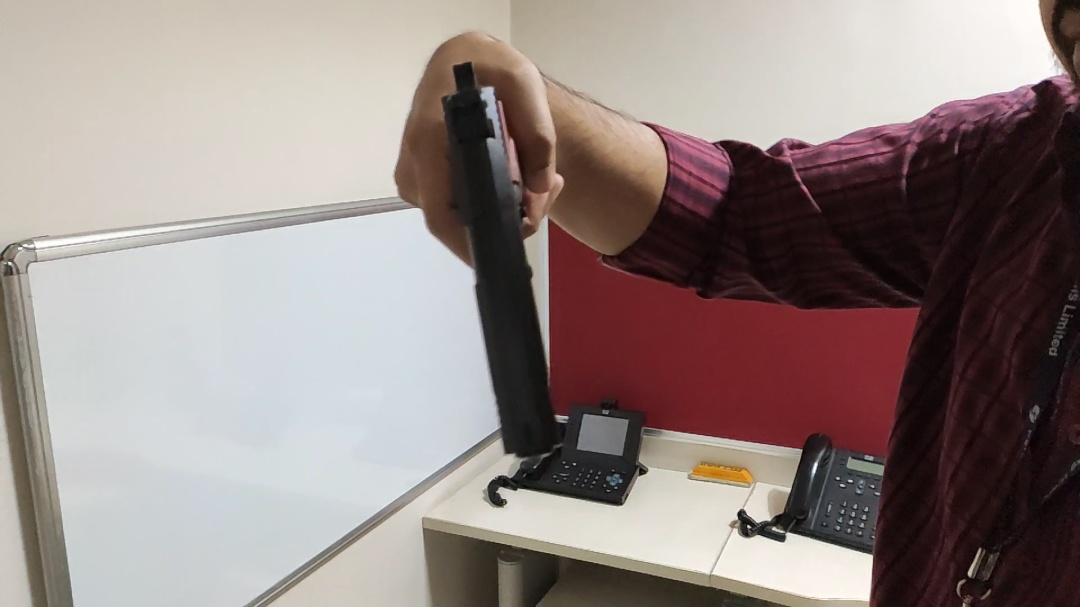gun: (403, 49, 580, 462)
